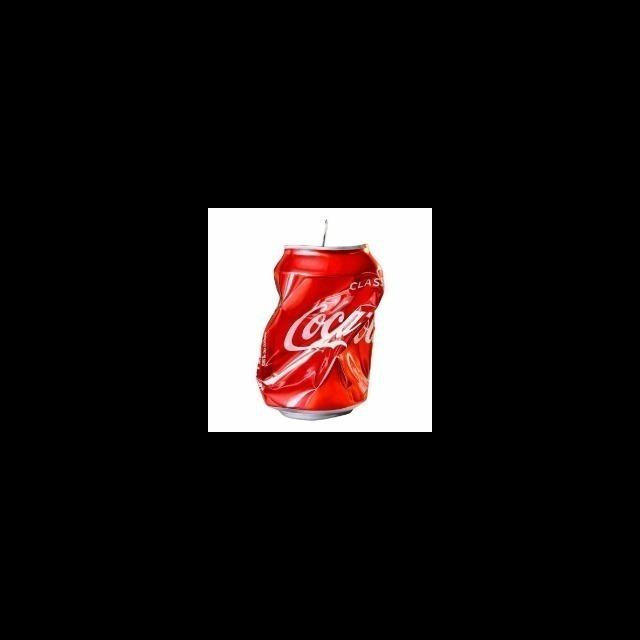metal: (250, 216, 386, 423)
